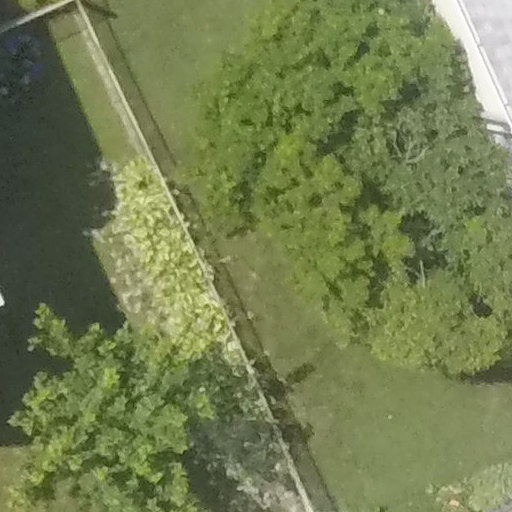fence: (63, 4, 364, 512)
